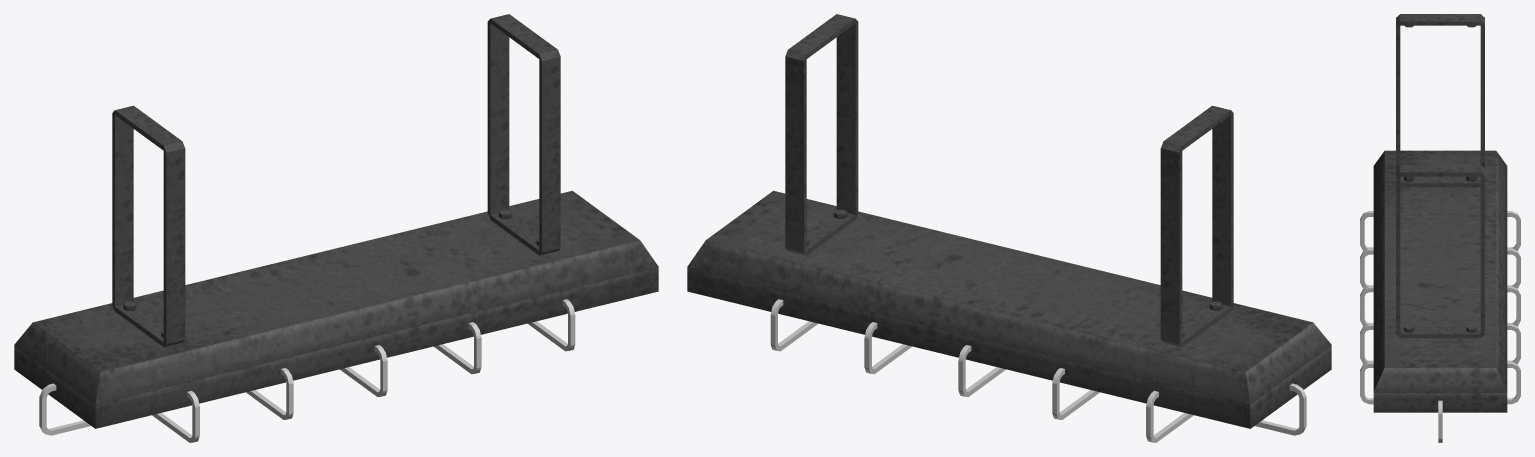
The model's file is ceiling_lamp_4_1_b_off.obj.
The picture shows the model from 3 angles, left to right: view 1: azimuth 30°, elevation 25°; view 2: azimuth 150°, elevation 25°; view 3: azimuth 270°, elevation 25°; orthographic projection. The views are drawn at different scales.
Parts seen in each view (by area): view 1: ceiling_lamp_4_1_b_off, ceiling_lamp_4_1_b_off_protector; view 2: ceiling_lamp_4_1_b_off, ceiling_lamp_4_1_b_off_protector; view 3: ceiling_lamp_4_1_b_off, ceiling_lamp_4_1_b_off_protector.
Part boxes in pixels (x1=…): ceiling_lamp_4_1_b_off: x1=14, y1=14, x2=658, y2=428; ceiling_lamp_4_1_b_off_protector: x1=39, y1=299, x2=575, y2=442; ceiling_lamp_4_1_b_off: x1=687, y1=14, x2=1331, y2=428; ceiling_lamp_4_1_b_off_protector: x1=770, y1=299, x2=1306, y2=442; ceiling_lamp_4_1_b_off: x1=1373, y1=14, x2=1507, y2=412; ceiling_lamp_4_1_b_off_protector: x1=1360, y1=211, x2=1520, y2=442.
Size of the model in its own units: 1.26 by 0.58 by 0.36.
